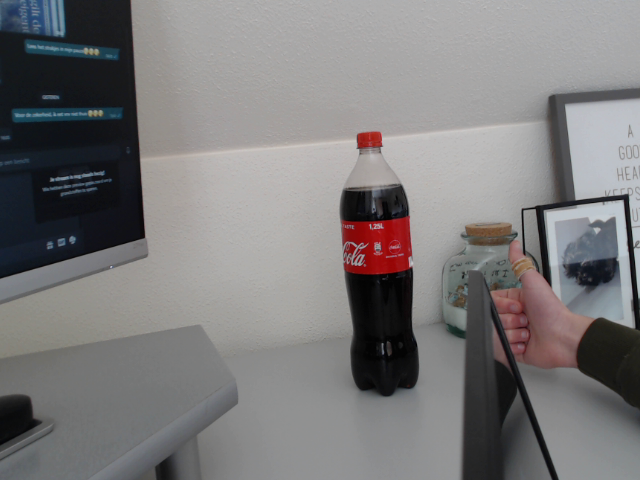bottle: (339, 130, 420, 397)
